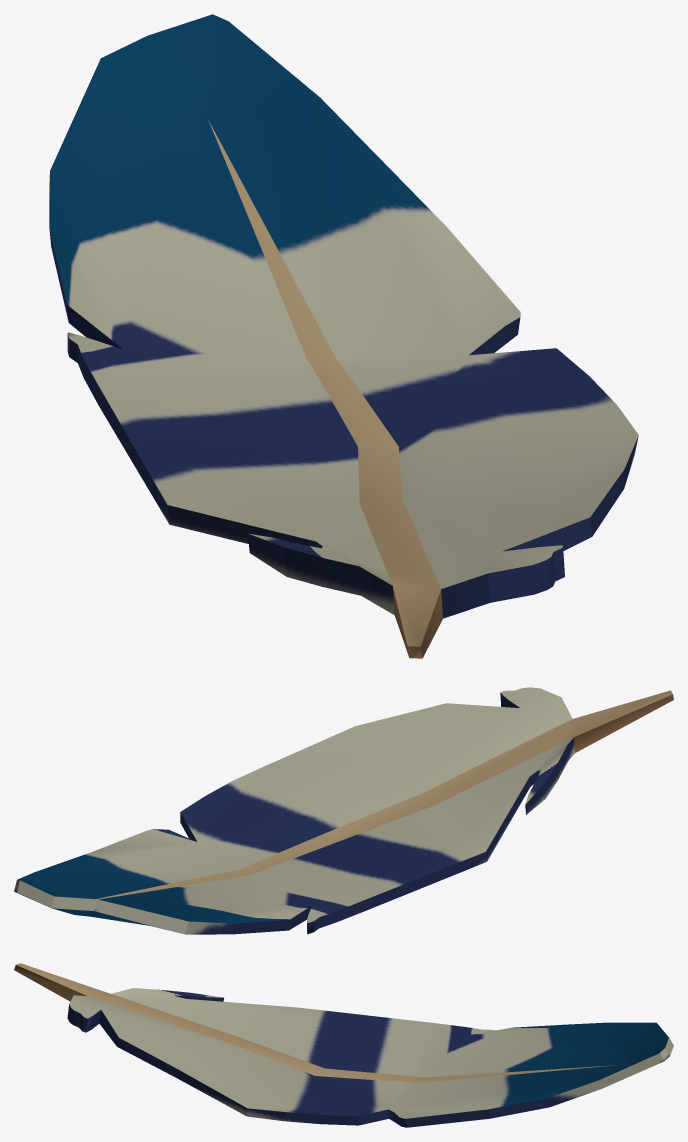
The model's file is SM_Accesory_Feather01.fbx.
3 views of the same model, one above another, from view 1: azimuth 30°, elevation 25°; view 2: azimuth 150°, elevation 25°; view 3: azimuth 270°, elevation 25° (orthographic). The views are drawn at different scales.
Parts seen in each view (by area): view 1: SM_Accesory_Feather01; view 2: SM_Accesory_Feather01; view 3: SM_Accesory_Feather01.
Part boxes in pixels (box(x1,y1,x2,y2)): SM_Accesory_Feather01: box(49, 14, 638, 658); SM_Accesory_Feather01: box(14, 687, 673, 934); SM_Accesory_Feather01: box(14, 963, 673, 1127).
Bounding box in the file's own units: 0.0354 × 0.0798 × 0.0103.
